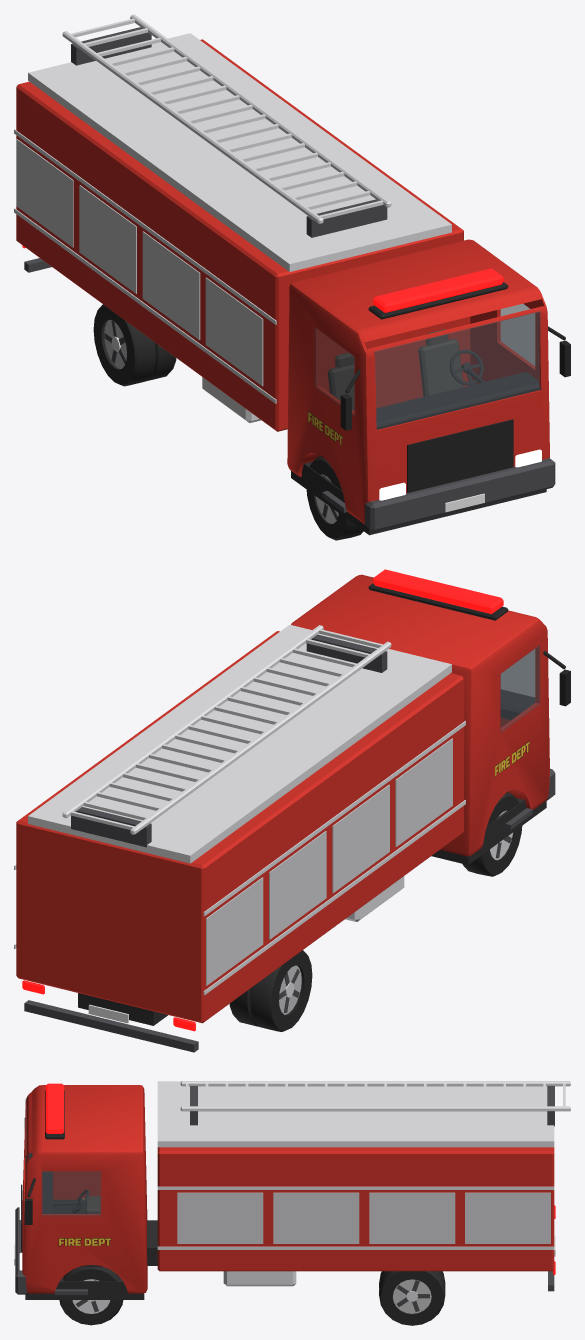
The model's file is fire_truck.glb.
3 views of the same model, one above another, from view 1: azimuth 30°, elevation 25°; view 2: azimuth 150°, elevation 25°; view 3: azimuth 270°, elevation 25° (orthographic). The views are drawn at different scales.
Visible parts, largest first — view 1: fire_truck_body, glass, wheel_RR, wheel_FR; view 2: fire_truck_body, wheel_RR, glass, wheel_FR; view 3: fire_truck_body, wheel_RL, glass, wheel_FL.
Part boxes in pixels (box(x1,y1,x2,y2)): fire_truck_body: box(14, 14, 570, 535); glass: box(314, 304, 540, 429); wheel_RR: box(93, 304, 176, 386); wheel_FR: box(306, 456, 363, 540); fire_truck_body: box(14, 569, 570, 1052); wheel_RR: box(229, 950, 312, 1031); glass: box(500, 645, 540, 732); wheel_FR: box(462, 792, 522, 876); fire_truck_body: box(14, 1081, 570, 1299); wheel_RL: box(379, 1271, 445, 1325); glass: box(25, 1099, 100, 1216); wheel_FL: box(59, 1267, 123, 1325).
Size of the model in its own units: 2.98 by 3.34 by 8.42.
Materials: 17 (1 with a texture image).
